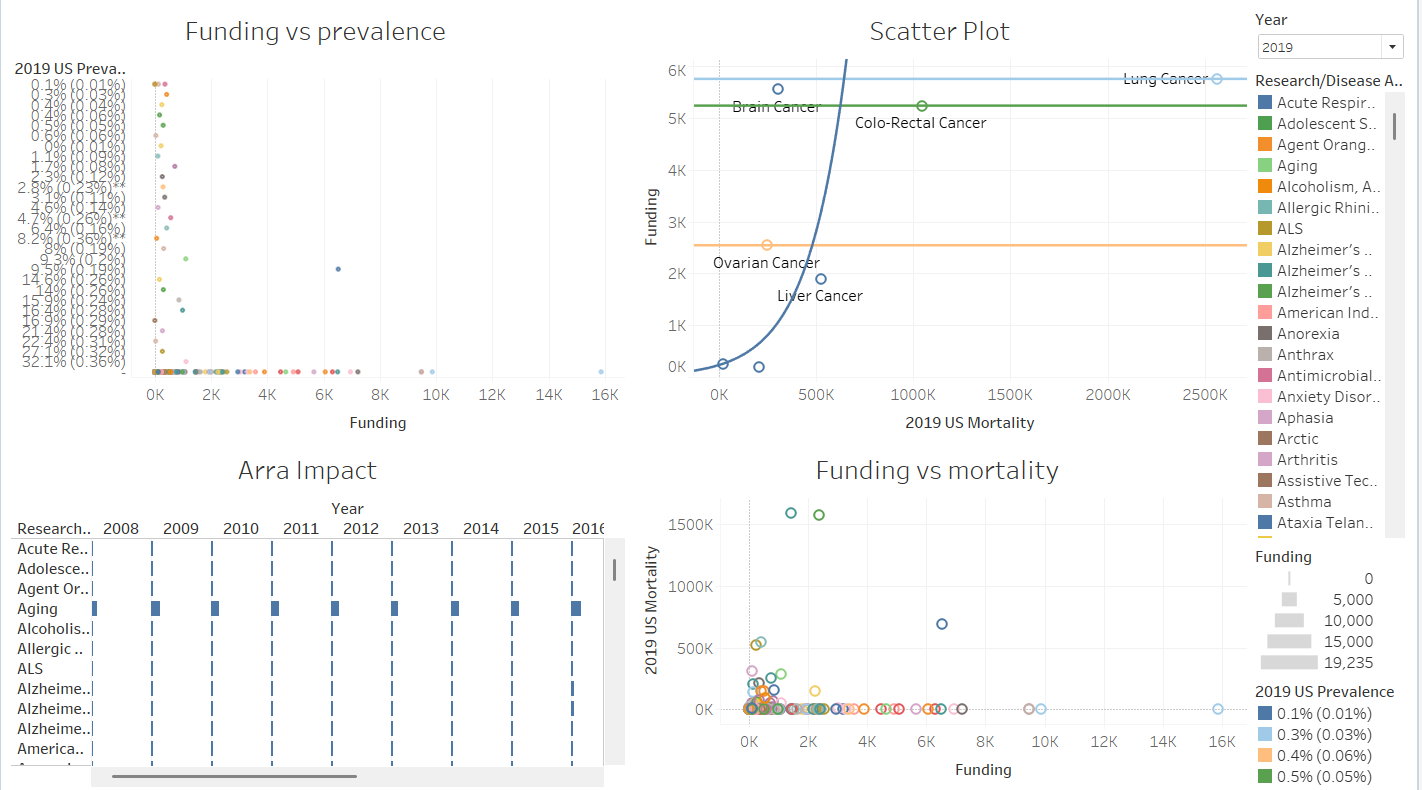

Layout of this report page (visuals, bound fields, positions):
{"tool":"tableau","page":{"name":"Funding Impact & Correlations","canvas":[1420,960],"ordinal":2},"visuals":[{"type":"worksheet","title":"Funding vs prevalence ","mark":"Shape","rows":["2019 US Prevalence SE 19 -"],"cols":["Pivot Field Values"],"box":[8,8,622,527]},{"type":"worksheet","title":"Scatter Plot","mark":"Automatic","rows":["Pivot Field Values"],"cols":["2019 US Mortality 19 -"],"box":[630,8,622,527]},{"type":"filter","title":"Funding vs prevalence ","param":"[federated.10dwumc0czlwrh0zqd9wn0iumnel].[none:Pivot Field Names:nk]","box":[1252,8,160,61]},{"type":"legend","title":"Funding vs prevalence ","param":"[federated.10dwumc0czlwrh0zqd9wn0iumnel].[none:Research/Disease Areas   (Dollars","box":[1252,69,160,634]},{"type":"worksheet","title":"Arra Impact","mark":"GanttBar","cols":["Pivot Field Names"],"box":[8,535,622,417]},{"type":"worksheet","title":"Funding vs mortality ","mark":"Automatic","rows":["2019 US Mortality 19 -"],"cols":["Pivot Field Values"],"box":[630,535,622,417]},{"type":"legend","title":"Arra Impact","param":"[federated.10dwumc0czlwrh0zqd9wn0iumnel].[sum:Pivot Field Values:qk]","box":[1252,703,160,135]},{"type":"legend","title":"Scatter Plot","param":"[federated.10dwumc0czlwrh0zqd9wn0iumnel].[none:2019 US Prevalence SE 19 -:nk]","box":[1252,838,160,114]}]}

Visuals, with their boxes on the page's 1420x960 design canvas (x1, y1, x2, y2). These are canvas units, not pixel positions in the 1422x790 screenshot, which may show the page scaled, cropped or inside an application window:
"Funding vs prevalence " worksheet (Shape marks): [x1=8, y1=8, x2=630, y2=535]
"Scatter Plot" worksheet: [x1=630, y1=8, x2=1252, y2=535]
"Funding vs prevalence " filter: [x1=1252, y1=8, x2=1412, y2=69]
"Funding vs prevalence " legend: [x1=1252, y1=69, x2=1412, y2=703]
"Arra Impact" worksheet (GanttBar marks): [x1=8, y1=535, x2=630, y2=952]
"Funding vs mortality " worksheet: [x1=630, y1=535, x2=1252, y2=952]
"Arra Impact" legend: [x1=1252, y1=703, x2=1412, y2=838]
"Scatter Plot" legend: [x1=1252, y1=838, x2=1412, y2=952]
